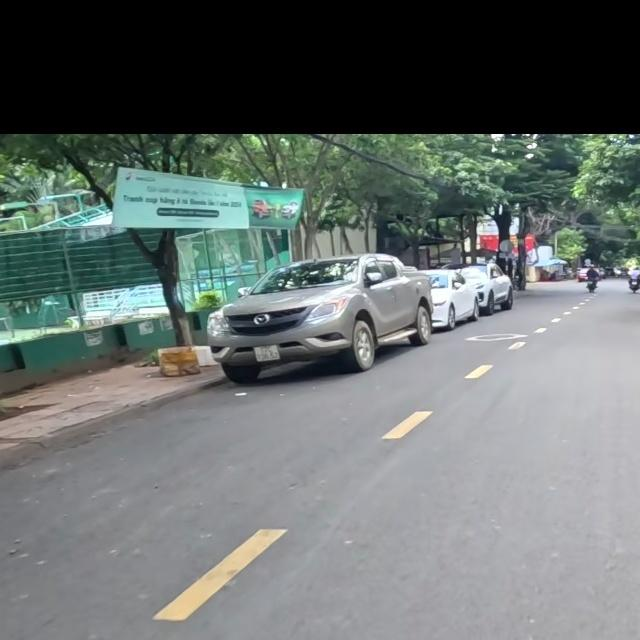license-plate: (253, 344, 282, 363)
